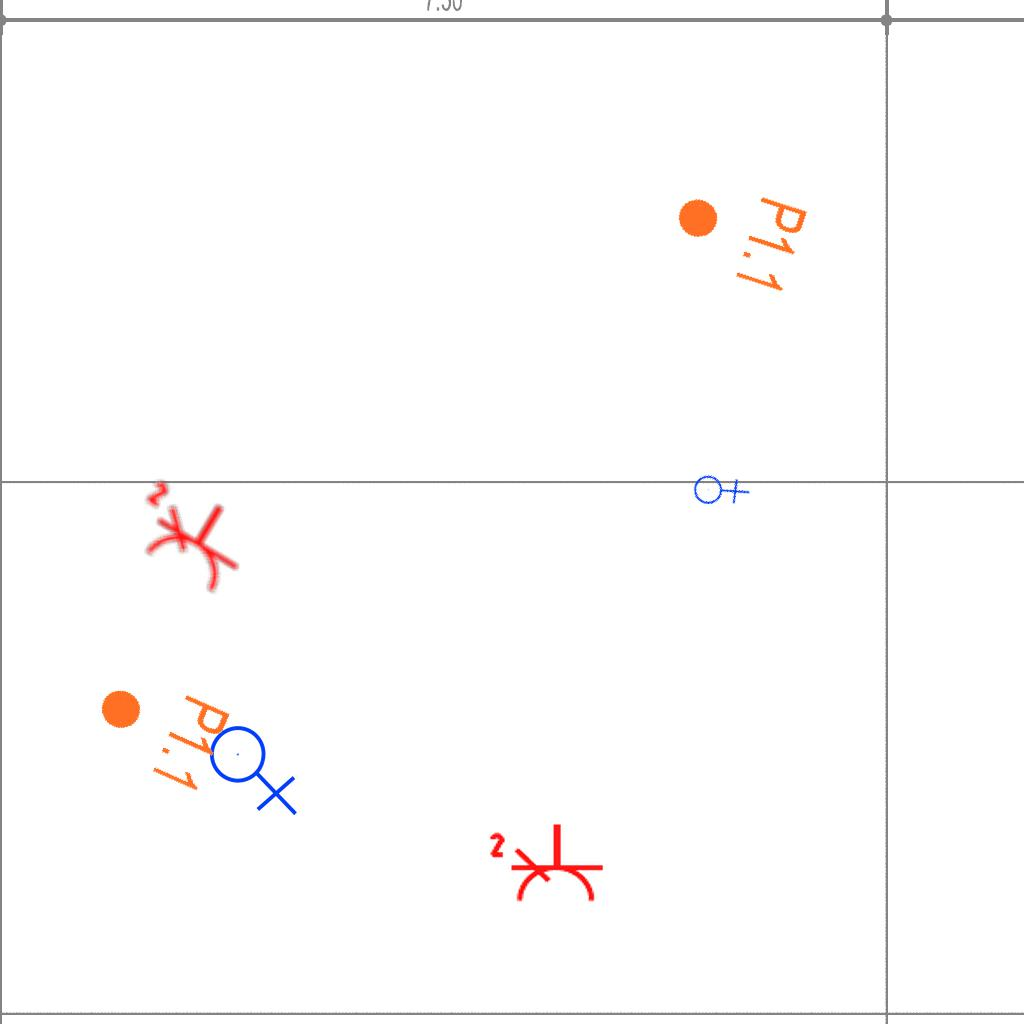Downlight_LED_Einbauleuchten_Flur_2: (80, 660, 235, 798), (661, 169, 812, 299)
Elektroanschluss_allgemein_230V_Geraeteanschlussdose_230V: (208, 717, 302, 816), (684, 454, 753, 523)
Schukosteckdose_mehrfach: (117, 465, 268, 603), (487, 818, 608, 906)
